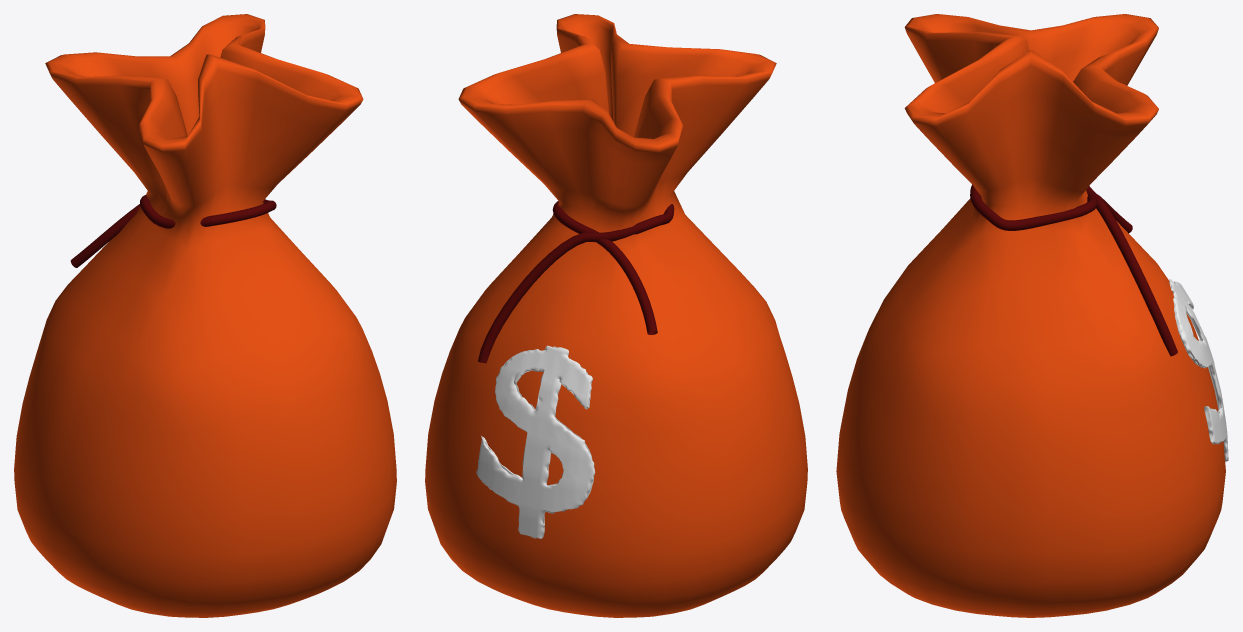
The model's file is moneybag.fbx.
The picture shows the model from 3 angles, left to right: view 1: azimuth 30°, elevation 25°; view 2: azimuth 150°, elevation 25°; view 3: azimuth 270°, elevation 25°; orthographic projection. The views are drawn at different scales.
Visible parts, largest first — view 1: Cube, BezierCurve.001; view 2: Cube, Text, BezierCurve.001; view 3: Cube, BezierCurve.001, Text.
Boxes of the visible parts, box(x1,y1,x2,y2) form: Cube: box(14, 14, 396, 617); BezierCurve.001: box(70, 195, 276, 267); Cube: box(425, 14, 807, 617); Text: box(476, 345, 595, 538); BezierCurve.001: box(478, 201, 674, 363); Cube: box(836, 14, 1225, 617); BezierCurve.001: box(970, 184, 1177, 356); Text: box(1169, 279, 1228, 461).
Bounding box in the file's own units: 162 × 246 × 163.
